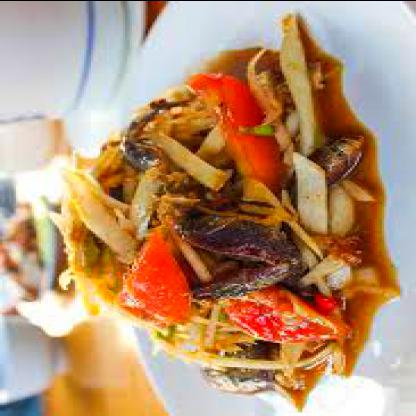Papaya Salad: (59, 38, 400, 414)
